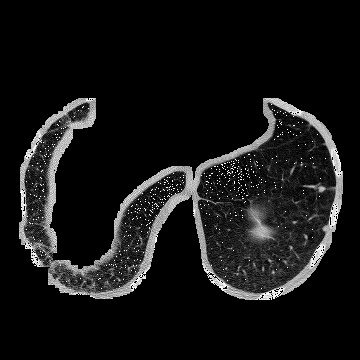PN: (323, 226, 327, 230)
